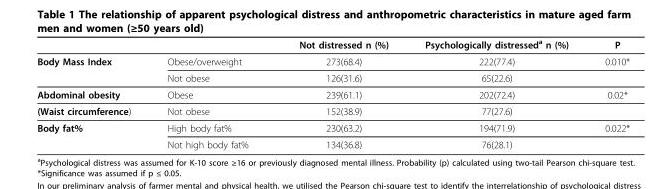table: (36, 37, 629, 149)
table column: (406, 37, 586, 149), (273, 37, 406, 149), (148, 37, 273, 149), (36, 37, 148, 149), (586, 37, 629, 149)
table column header: (36, 37, 629, 52)
table row: (36, 52, 629, 69), (36, 85, 629, 102), (36, 102, 629, 119), (36, 69, 629, 85), (36, 119, 629, 135), (36, 37, 629, 52), (36, 135, 629, 149)
table spanning cell: (36, 52, 148, 85), (36, 119, 148, 149)
